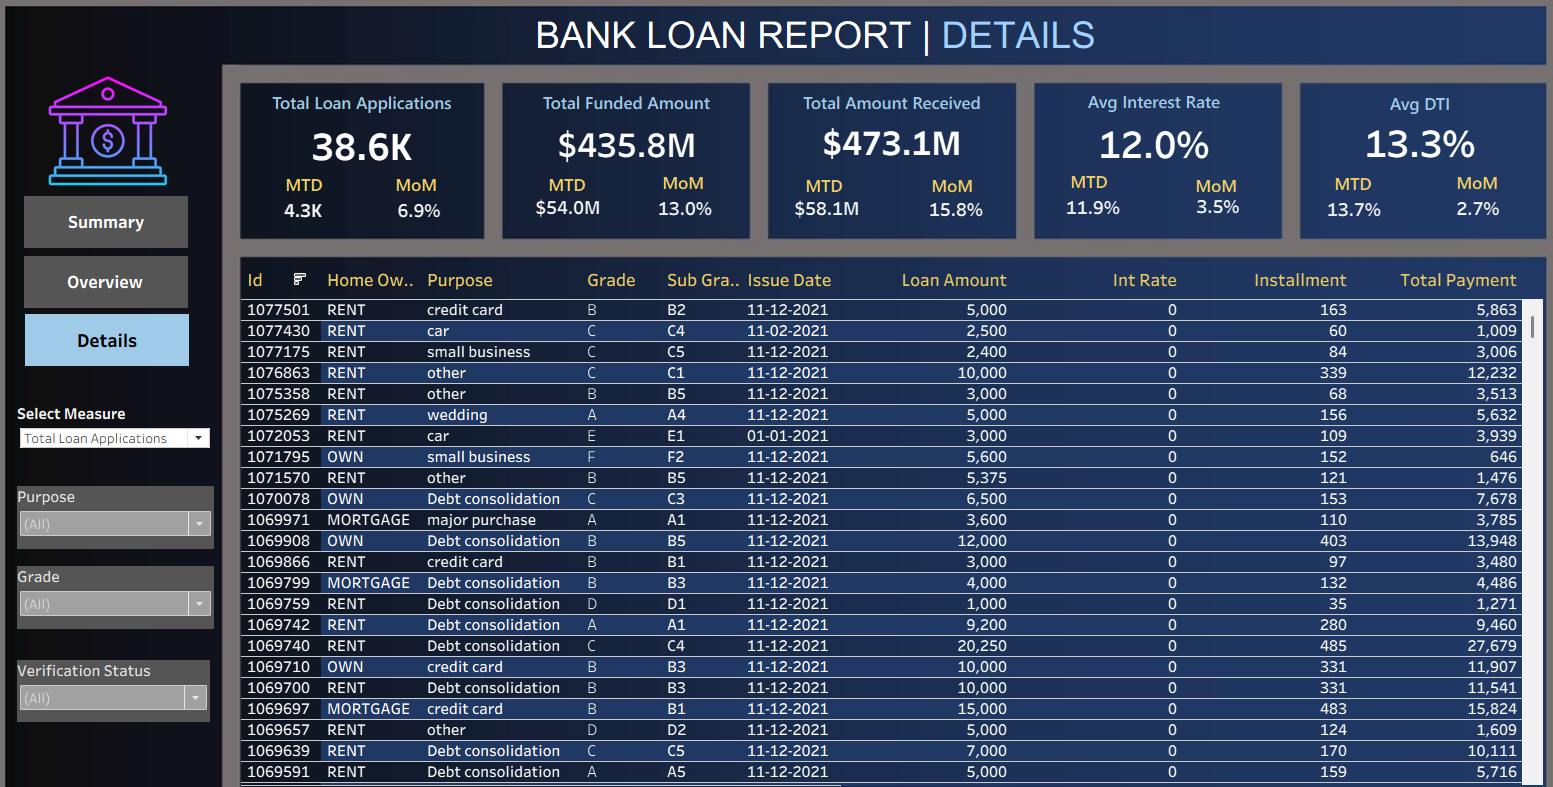

Layout of this report page (visuals, bound fields, positions):
{"tool":"tableau","page":{"name":"Details","canvas":[1600,900],"ordinal":0},"visuals":[{"type":"image","param":"C:/Users/3dgar/Downloads/Project work/Tableau Background 3.jpg","box":[8,8,1584,884]},{"type":"text","box":[555,21,651,56]},{"type":"image","param":"C:/Users/3dgar/AppData/Local/Temp/TableauTemp/1h1voyq0rynau115wpqad0rpjkdg/Sheet","box":[60,73,141,141]},{"type":"worksheet","title":"Avg Interest Rate","mark":"Automatic","box":[1063,99,228,78]},{"type":"worksheet","title":"Total Loan Applications","mark":"Automatic","box":[267,100,236,77]},{"type":"worksheet","title":"Total Funded Amount","mark":"Automatic","box":[527,100,245,76]},{"type":"worksheet","title":"Total Amount Received","mark":"Automatic","box":[799,100,232,72]},{"type":"worksheet","title":"Avg DTI","mark":"Automatic","box":[1328,101,230,72]},{"type":"text","box":[415,180,71,34]},{"type":"text","box":[1090,180,49,28]},{"type":"text","box":[682,181,49,28]},{"type":"text","box":[1476,181,49,28]},{"type":"text","box":[277,182,100,30]},{"type":"text","box":[564,182,52,30]},{"type":"text","box":[1354,182,49,28]},{"type":"text","box":[797,183,100,30]},{"type":"text","box":[951,184,49,28]},{"type":"text","box":[1215,184,49,28]},{"type":"worksheet","title":"MoM Total Funded Amount","mark":"Automatic","box":[649,198,117,46]},{"type":"worksheet","title":"MoM Total Amount Received","mark":"Automatic","box":[943,199,72,46]},{"type":"worksheet","title":"MoM Avg INT Rate","mark":"Automatic","box":[1212,199,58,40]},{"type":"worksheet","title":"MTD Total Funded Amount","mark":"Automatic","box":[539,200,104,40]},{"type":"worksheet","title":"MTD Loan Applications","mark":"Automatic","box":[265,202,122,41]},{"type":"worksheet","title":"MTD Total Amount Received","mark":"Automatic","box":[811,202,78,37]},{"type":"worksheet","title":"MoM Avg DTI","mark":"Automatic","box":[1470,202,63,38]},{"type":"worksheet","title":"MTD Avg INT Rate","mark":"Automatic","box":[1085,203,62,33]},{"type":"worksheet","title":"MTD Avg DTI","mark":"Automatic","box":[1340,203,74,37]},{"type":"worksheet","title":"MoM Total Loan Application","mark":"Automatic","box":[400,204,84,38]},{"type":"dashboard-object","box":[47,209,164,52]},{"type":"dashboard-object","box":[47,269,164,52]},{"type":"worksheet","title":"Details Tab","mark":"Automatic","rows":["id","home_ownership","purpose","grade","sub_grade","issue_date"],"box":[264,272,1302,527]},{"type":"dashboard-object","box":[48,327,164,52]},{"type":"parameter","param":"[Parameters].[Parameter 1]","box":[40,416,196,60]},{"type":"filter","title":"Avg DTI","param":"[federated.0c57ips00t71io10baioe06lgg3n].[none:purpose:nk]","box":[40,499,197,63]},{"type":"filter","title":"Avg DTI","param":"[federated.0c57ips00t71io10baioe06lgg3n].[none:grade:nk]","box":[40,579,197,63]},{"type":"filter","title":"Avg DTI","param":"[federated.0c57ips00t71io10baioe06lgg3n].[none:verification_status:nk]","box":[40,673,193,62]}]}

Visuals, with their boxes on the page's 1600x900 design canvas (x1, y1, x2, y2). These are canvas units, not pixel positions in the 1553x787 screenshot, which may show the page scaled, cropped or inside an application window:
image: Rect(8, 8, 1592, 892)
text: Rect(555, 21, 1206, 77)
image: Rect(60, 73, 201, 214)
"Avg Interest Rate" worksheet: Rect(1063, 99, 1291, 177)
"Total Loan Applications" worksheet: Rect(267, 100, 503, 177)
"Total Funded Amount" worksheet: Rect(527, 100, 772, 176)
"Total Amount Received" worksheet: Rect(799, 100, 1031, 172)
"Avg DTI" worksheet: Rect(1328, 101, 1558, 173)
text: Rect(415, 180, 486, 214)
text: Rect(1090, 180, 1139, 208)
text: Rect(682, 181, 731, 209)
text: Rect(1476, 181, 1525, 209)
text: Rect(277, 182, 377, 212)
text: Rect(564, 182, 616, 212)
text: Rect(1354, 182, 1403, 210)
text: Rect(797, 183, 897, 213)
text: Rect(951, 184, 1000, 212)
text: Rect(1215, 184, 1264, 212)
"MoM Total Funded Amount" worksheet: Rect(649, 198, 766, 244)
"MoM Total Amount Received" worksheet: Rect(943, 199, 1015, 245)
"MoM Avg INT Rate" worksheet: Rect(1212, 199, 1270, 239)
"MTD Total Funded Amount" worksheet: Rect(539, 200, 643, 240)
"MTD Loan Applications" worksheet: Rect(265, 202, 387, 243)
"MTD Total Amount Received" worksheet: Rect(811, 202, 889, 239)
"MoM Avg DTI" worksheet: Rect(1470, 202, 1533, 240)
"MTD Avg INT Rate" worksheet: Rect(1085, 203, 1147, 236)
"MTD Avg DTI" worksheet: Rect(1340, 203, 1414, 240)
"MoM Total Loan Application" worksheet: Rect(400, 204, 484, 242)
dashboard-object: Rect(47, 209, 211, 261)
dashboard-object: Rect(47, 269, 211, 321)
"Details Tab" worksheet: Rect(264, 272, 1566, 799)
dashboard-object: Rect(48, 327, 212, 379)
parameter: Rect(40, 416, 236, 476)
"Avg DTI" filter: Rect(40, 499, 237, 562)
"Avg DTI" filter: Rect(40, 579, 237, 642)
"Avg DTI" filter: Rect(40, 673, 233, 735)
